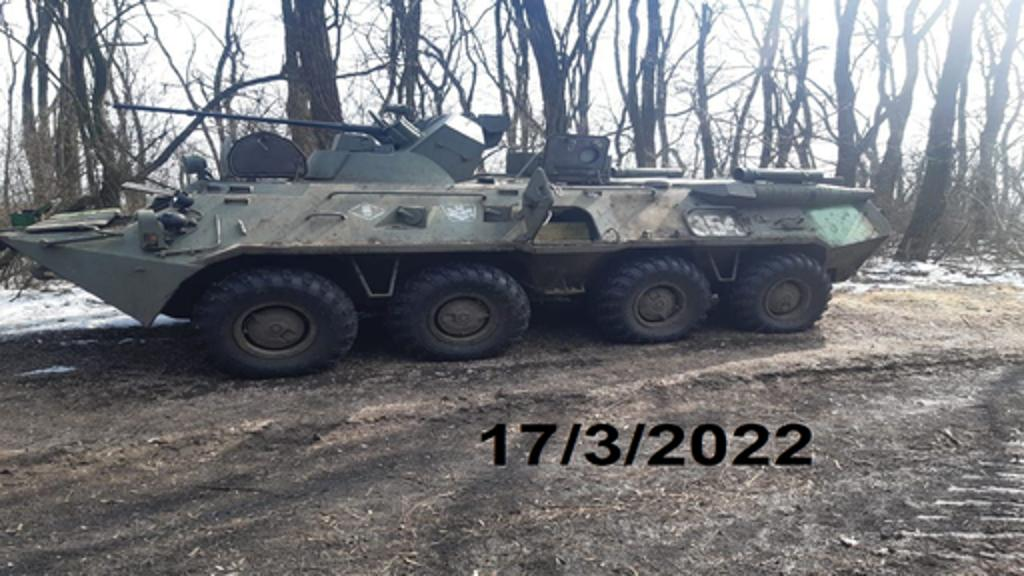APC-IFV: (0, 82, 884, 386)
